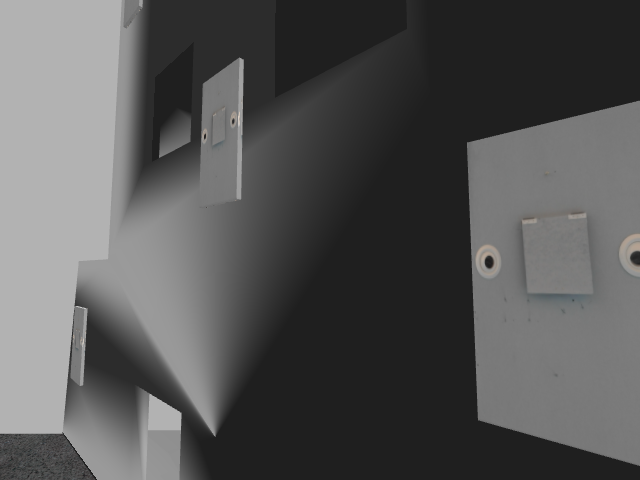facade: (474, 211, 639, 294), (201, 107, 237, 145)
